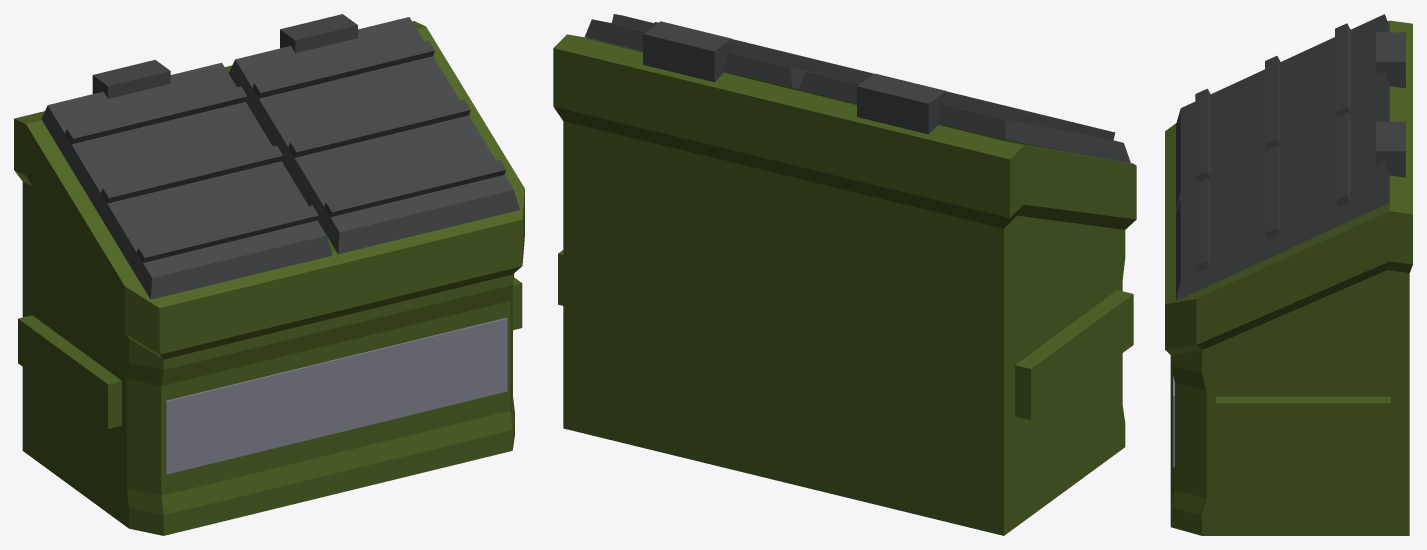
The model's file is dumpster.glb.
The picture shows the model from 3 angles, left to right: view 1: azimuth 30°, elevation 25°; view 2: azimuth 150°, elevation 25°; view 3: azimuth 270°, elevation 25°; orthographic projection. The views are drawn at different scales.
Visible parts, largest first — view 1: TrashContainer; view 2: TrashContainer; view 3: TrashContainer.
Part boxes in pixels (x1=…): TrashContainer: x1=14, y1=14, x2=524, y2=535; TrashContainer: x1=553, y1=14, x2=1136, y2=535; TrashContainer: x1=1165, y1=14, x2=1412, y2=535.
Bounding box in the file's own units: 2.44 × 2.03 × 1.3.
1 material, 1 textured.
